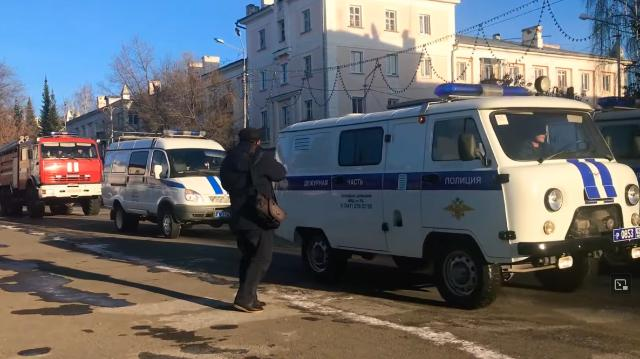fire fighting vehicle: (1, 133, 101, 222)
police car: (274, 83, 636, 311), (105, 130, 242, 242)
